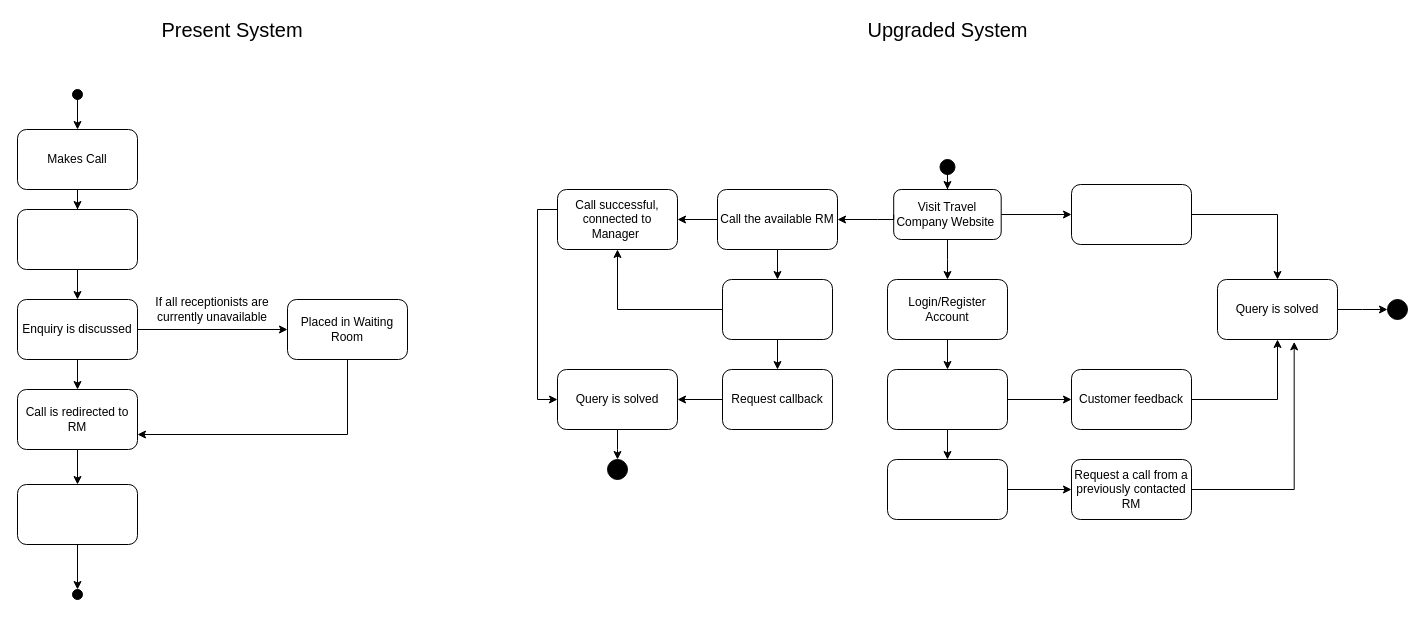
The diagram is 1425 pixels wide and 617 high, and some of its shapes have lost their labels. The box of each missing label's shape, as (x1, y1, x2, y2) in pixels:
Access FAQ's: (1070, 184, 1192, 244)
Customer homepage: (886, 368, 1008, 430)
History of calls: (886, 458, 1008, 520)
Placed in Queue: (722, 278, 832, 340)
Query is resolved: (16, 484, 138, 544)
Receptionist Answers: (16, 208, 138, 270)
